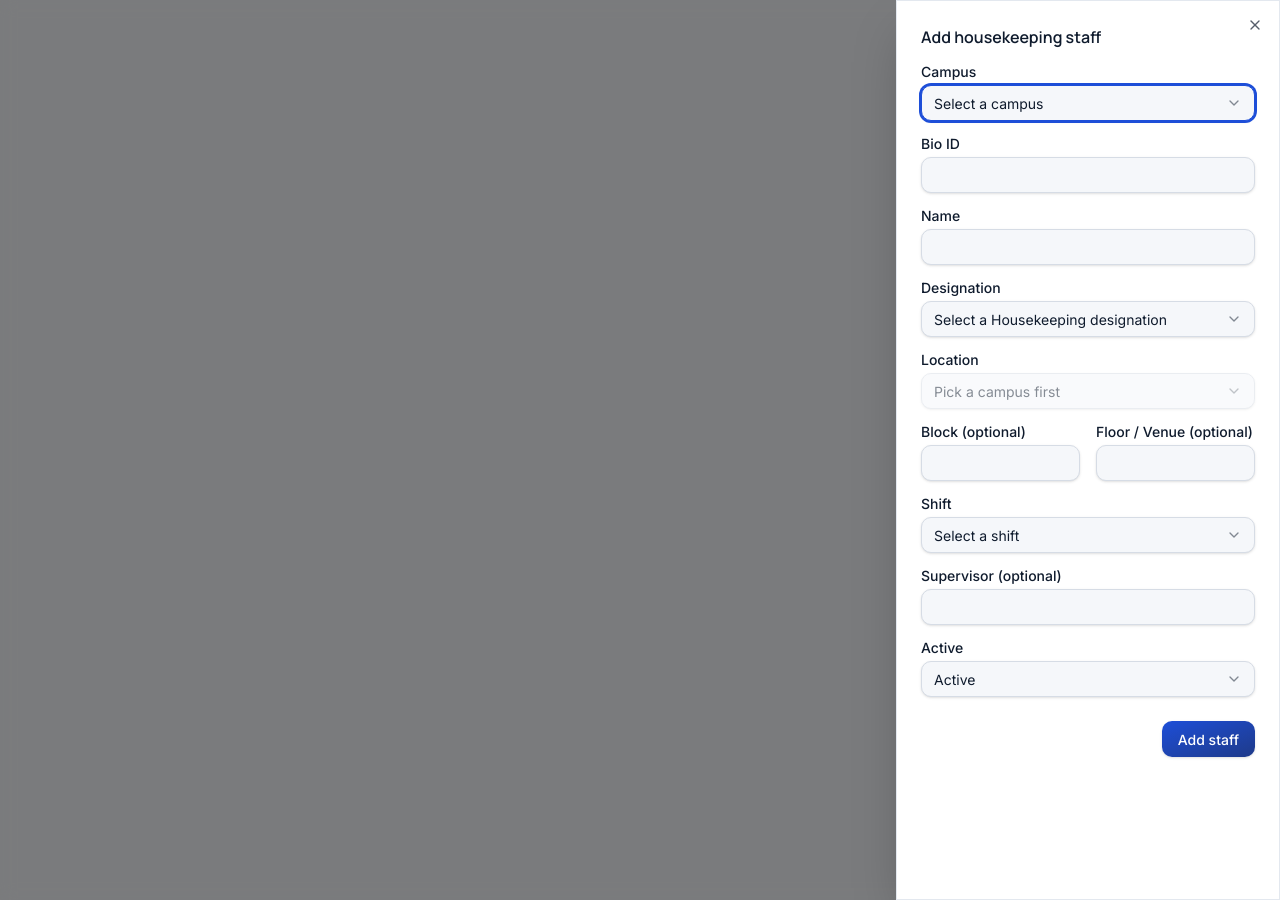
it: HousekeepingStaffFormDrawer › filters the location picker to the currently selected campus
Click the dropdown labelled "campus" at point(989, 103), box [921,85,1255,121]
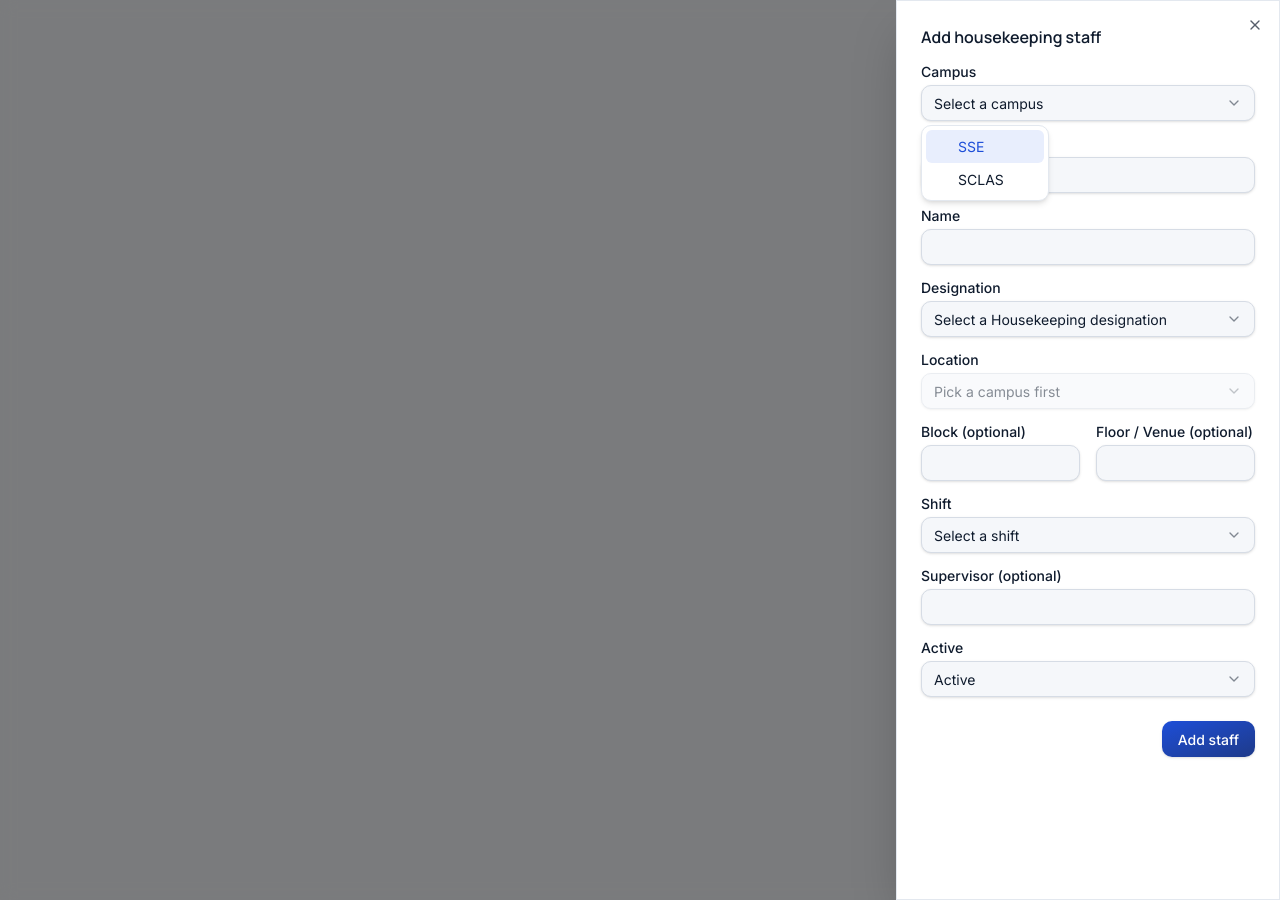
Click the option "SCLAS" at point(981, 180), box [958,171,1004,188]
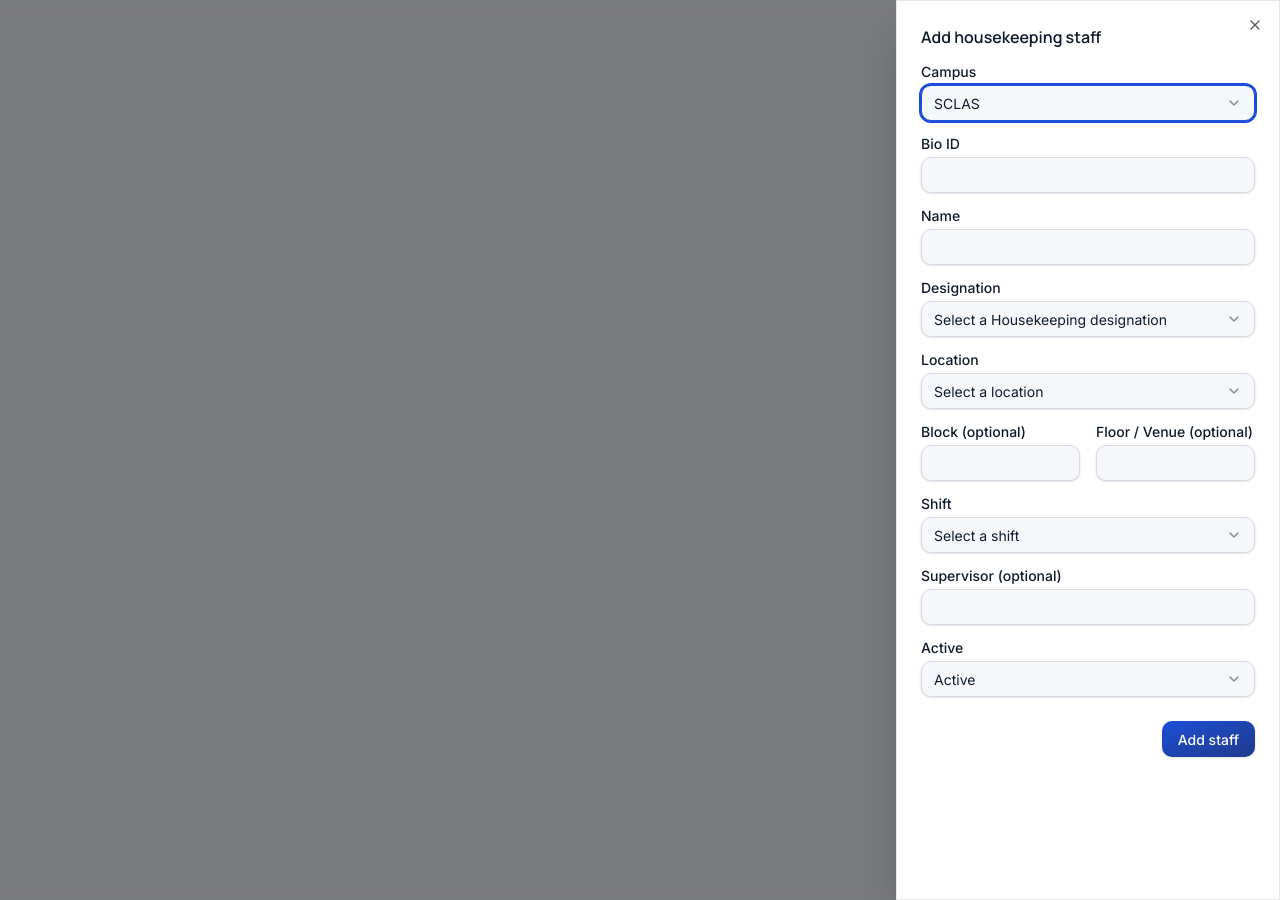
Click the dropdown labelled "location" at point(989, 391), box [921,373,1255,409]
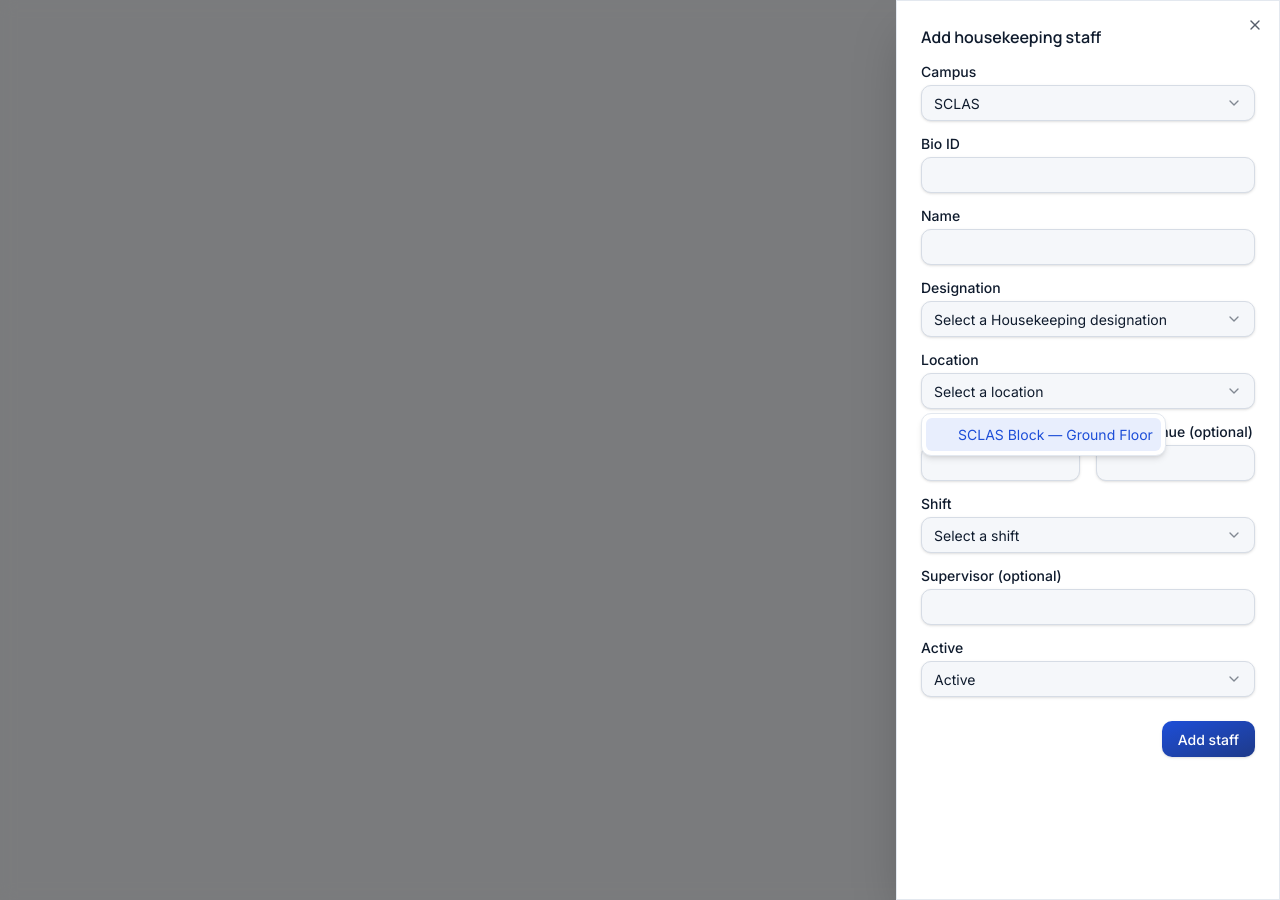
Now the option "SCLAS Block — Ground Floor" is shown, box [926,418,1161,451]
